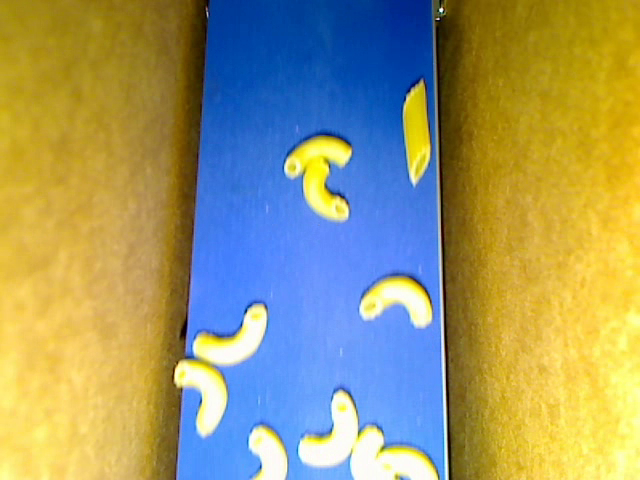elbow: (297, 388, 360, 469), (191, 302, 267, 366), (172, 357, 227, 439), (358, 273, 432, 329), (282, 134, 352, 180), (302, 156, 349, 222), (348, 424, 394, 479), (248, 423, 288, 479), (378, 444, 439, 479)
penne: (400, 77, 432, 187)
